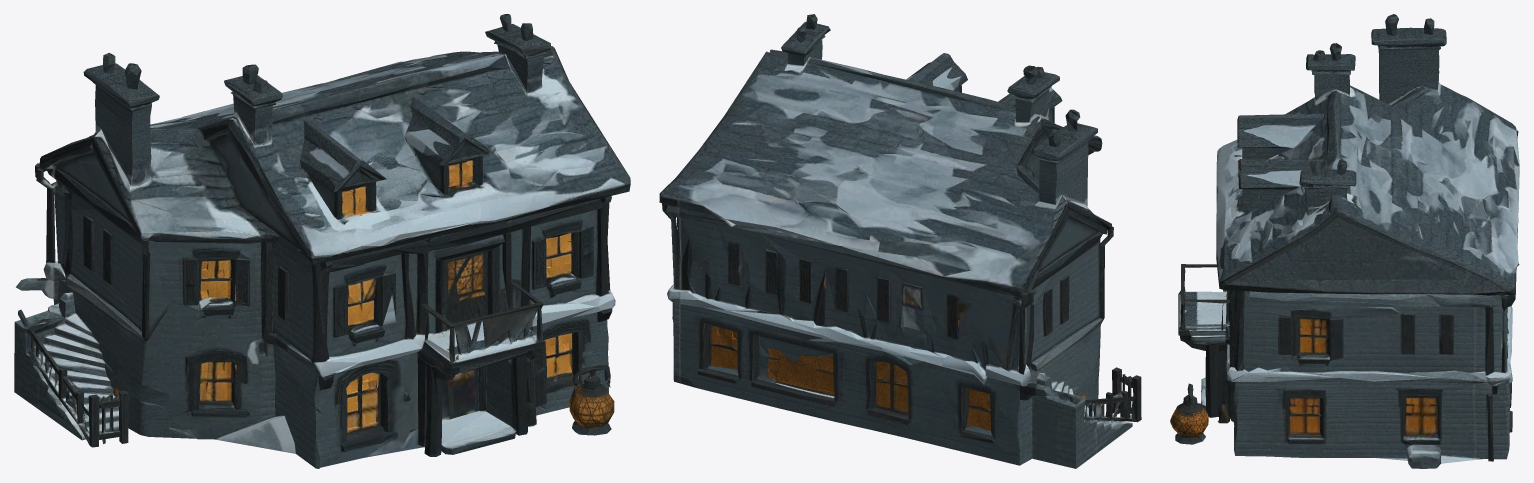
Rendered from home_b.glb.
3 views of the same model, side by side, from view 1: azimuth 30°, elevation 25°; view 2: azimuth 150°, elevation 25°; view 3: azimuth 270°, elevation 25° (orthographic). The views are drawn at different scales.
Size of the model in its own units: 1.9 by 1.38 by 1.49.
1 material, 1 textured.
